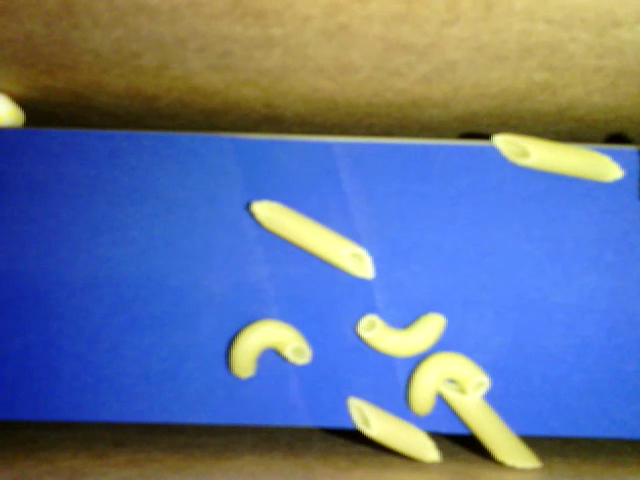elbow: (405, 350, 493, 417), (226, 318, 312, 377), (354, 312, 447, 358)
penne: (249, 197, 376, 282), (437, 382, 542, 470), (492, 132, 625, 183), (347, 394, 442, 463)
